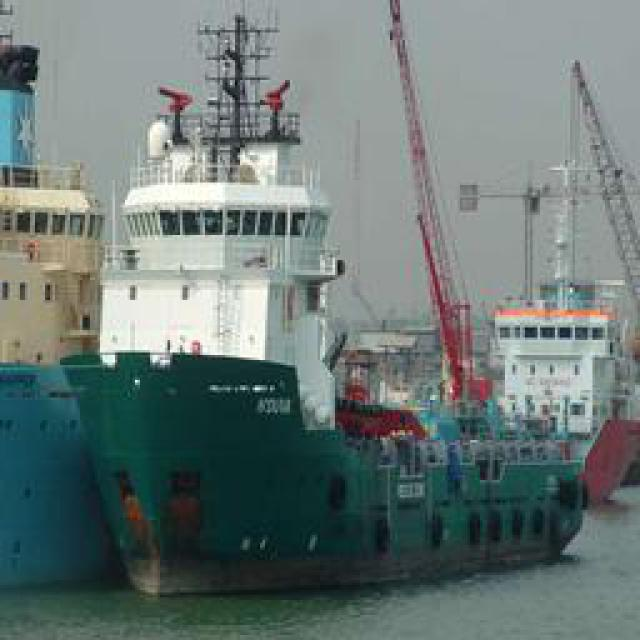Ship: (61, 1, 595, 599), (1, 1, 513, 611), (316, 6, 640, 516)
